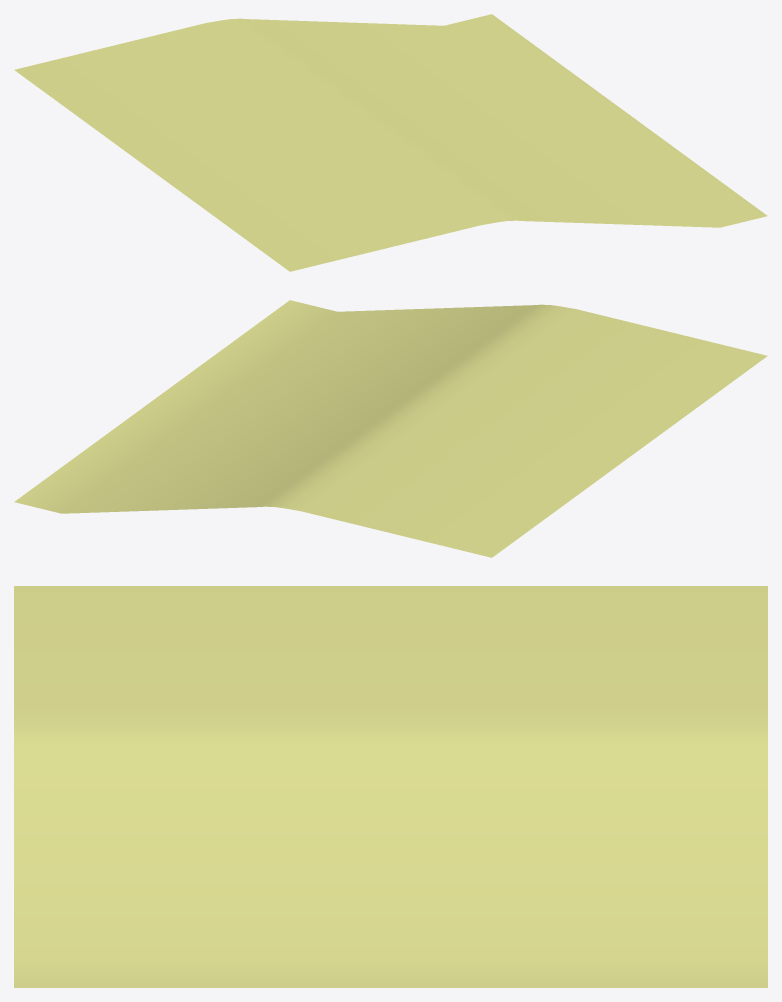
Rendered from sand_slope.fbx.
3 renders of one model, top to bottom at view 1: azimuth 30°, elevation 25°; view 2: azimuth 150°, elevation 25°; view 3: azimuth 270°, elevation 25°, orthographic. The views are drawn at different scales.
Visible parts, largest first — view 1: Cube.066; view 2: Cube.066; view 3: Cube.066.
Part boxes in pixels (left/top/right/bottom): Cube.066: left=14, top=14, right=767, bottom=271; Cube.066: left=14, top=300, right=767, bottom=557; Cube.066: left=14, top=586, right=767, bottom=987.
Bounding box in the file's own units: 200 × 200 × 24.32.
